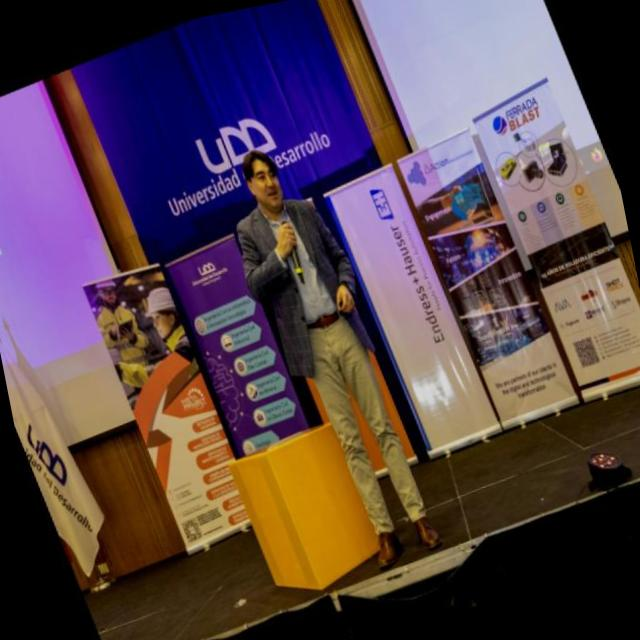person: (205, 116, 484, 592)
